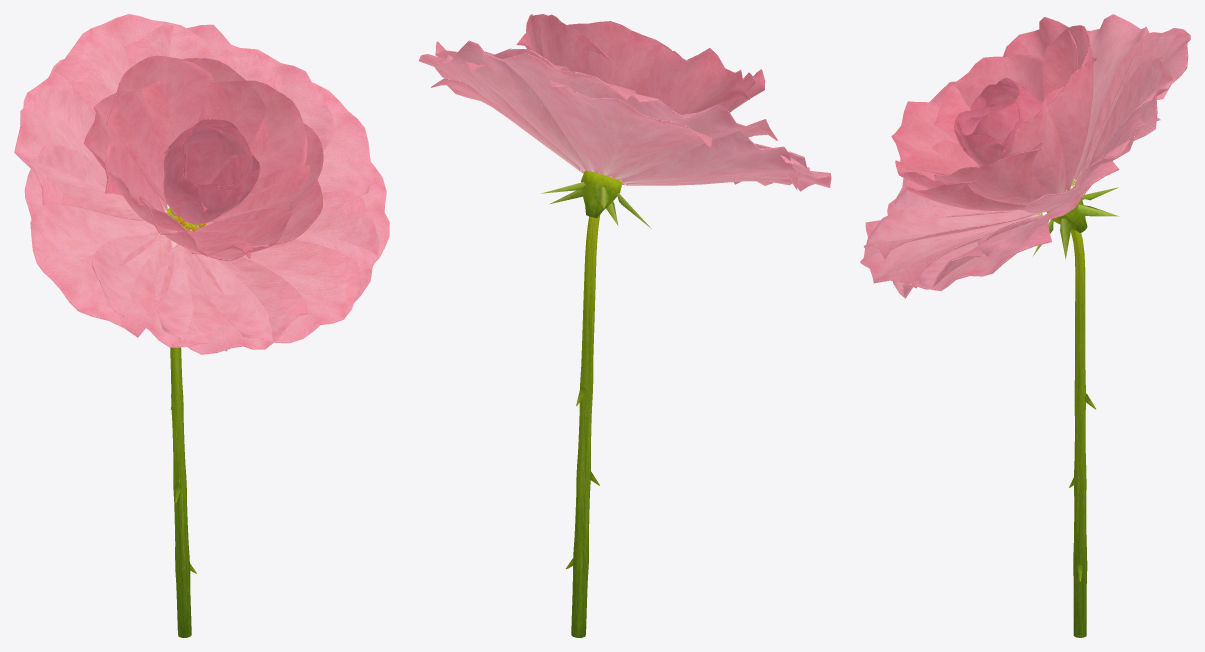
File: rose_28.glb
3 renders of one model, left to right at view 1: azimuth 30°, elevation 25°; view 2: azimuth 150°, elevation 25°; view 3: azimuth 270°, elevation 25°, orthographic. The views are drawn at different scales.
Visible parts, largest first — view 1: Petal_7_outer_03, Petal_4_outer_01, Petal_2_outer_02, Petal_6_outer_02, Petal_5_outer_04, Petal_0_outer_01, Petal_19_middle_01, Petal_17_middle_02, Petal_10_outer_01, Stem_Skinned, Petal_20_middle_03, Petal_18_middle_04 (+15 smaller); view 2: Petal_1_outer_03, Stem_Skinned, Petal_20_middle_03, Petal_3_outer_04, Petal_12_outer_02, Petal_19_middle_01, Petal_2_outer_02, Petal_0_outer_01, Petal_18_middle_04, Hypanthium_and_five_sepals, Petal_11_outer_04, Petal_4_outer_01 (+3 smaller); view 3: Petal_7_outer_03, Stem_Skinned, Petal_13_middle_03, Petal_0_outer_01, Petal_2_outer_02, Petal_16_middle_04, Petal_21_middle_02, Petal_18_middle_04, Petal_12_outer_02, Petal_17_middle_02, Petal_9_outer_03, Petal_19_middle_01 (+14 smaller).
Boxes of the visible parts, x1,y1,x2,y2 form: Petal_7_outer_03: (192, 239, 360, 343); Petal_4_outer_01: (30, 201, 173, 337); Petal_2_outer_02: (14, 81, 144, 220); Petal_6_outer_02: (154, 244, 308, 354); Petal_5_outer_04: (92, 234, 231, 351); Petal_0_outer_01: (54, 14, 213, 115); Petal_19_middle_01: (106, 55, 213, 202); Petal_17_middle_02: (198, 80, 307, 199); Petal_10_outer_01: (265, 72, 372, 209); Stem_Skinned: (170, 217, 196, 637); Petal_20_middle_03: (84, 90, 167, 213); Petal_18_middle_04: (141, 58, 266, 169); Petal_1_outer_03: (548, 80, 711, 176); Stem_Skinned: (565, 215, 599, 637); Petal_20_middle_03: (642, 46, 749, 114); Petal_3_outer_04: (622, 130, 802, 190); Petal_12_outer_02: (447, 40, 587, 170); Petal_19_middle_01: (567, 21, 676, 94); Petal_2_outer_02: (611, 93, 777, 180); Petal_0_outer_01: (479, 51, 637, 172); Petal_18_middle_04: (540, 14, 614, 73); Hypanthium_and_five_sepals: (541, 171, 651, 228); Petal_11_outer_04: (435, 41, 580, 170); Petal_4_outer_01: (627, 143, 831, 191); Petal_7_outer_03: (860, 204, 1041, 288); Stem_Skinned: (1069, 229, 1095, 637); Petal_13_middle_03: (891, 80, 984, 175); Petal_0_outer_01: (1082, 28, 1190, 172); Petal_2_outer_02: (1072, 14, 1149, 184); Petal_16_middle_04: (934, 142, 1049, 204); Petal_21_middle_02: (934, 53, 1043, 141); Petal_18_middle_04: (1047, 57, 1096, 190); Petal_12_outer_02: (1074, 56, 1172, 185); Petal_17_middle_02: (1006, 85, 1066, 194); Petal_9_outer_03: (917, 207, 1056, 291); Petal_19_middle_01: (1042, 25, 1093, 103).
Bounding box in the file's own units: 0.2046 × 0.3301 × 0.1679.
Materials: 7 (7 with a texture image).
